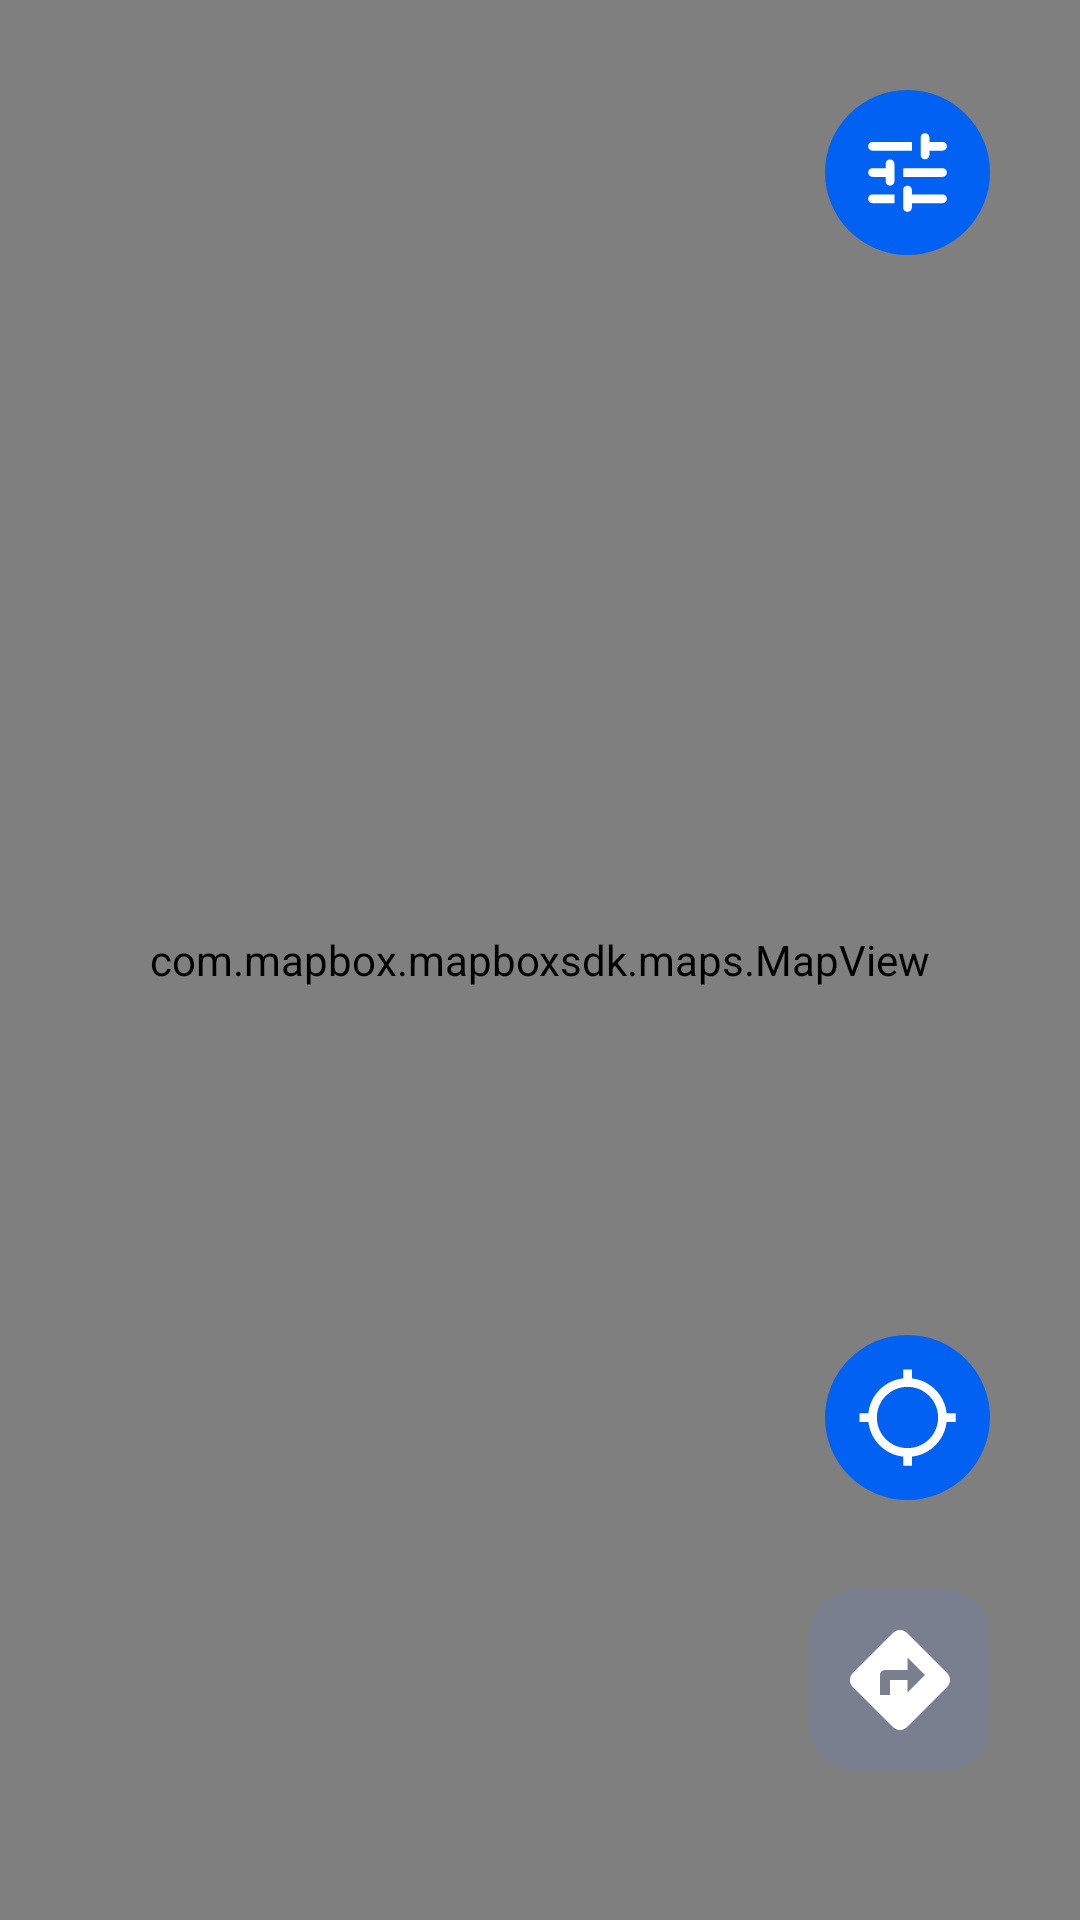

Where to tap for icons on this 1080 x 1920 app screen, as (x=x, y=y):
directions: (x=900, y=1680)
location: (x=907, y=1417)
tune: (x=907, y=172)
